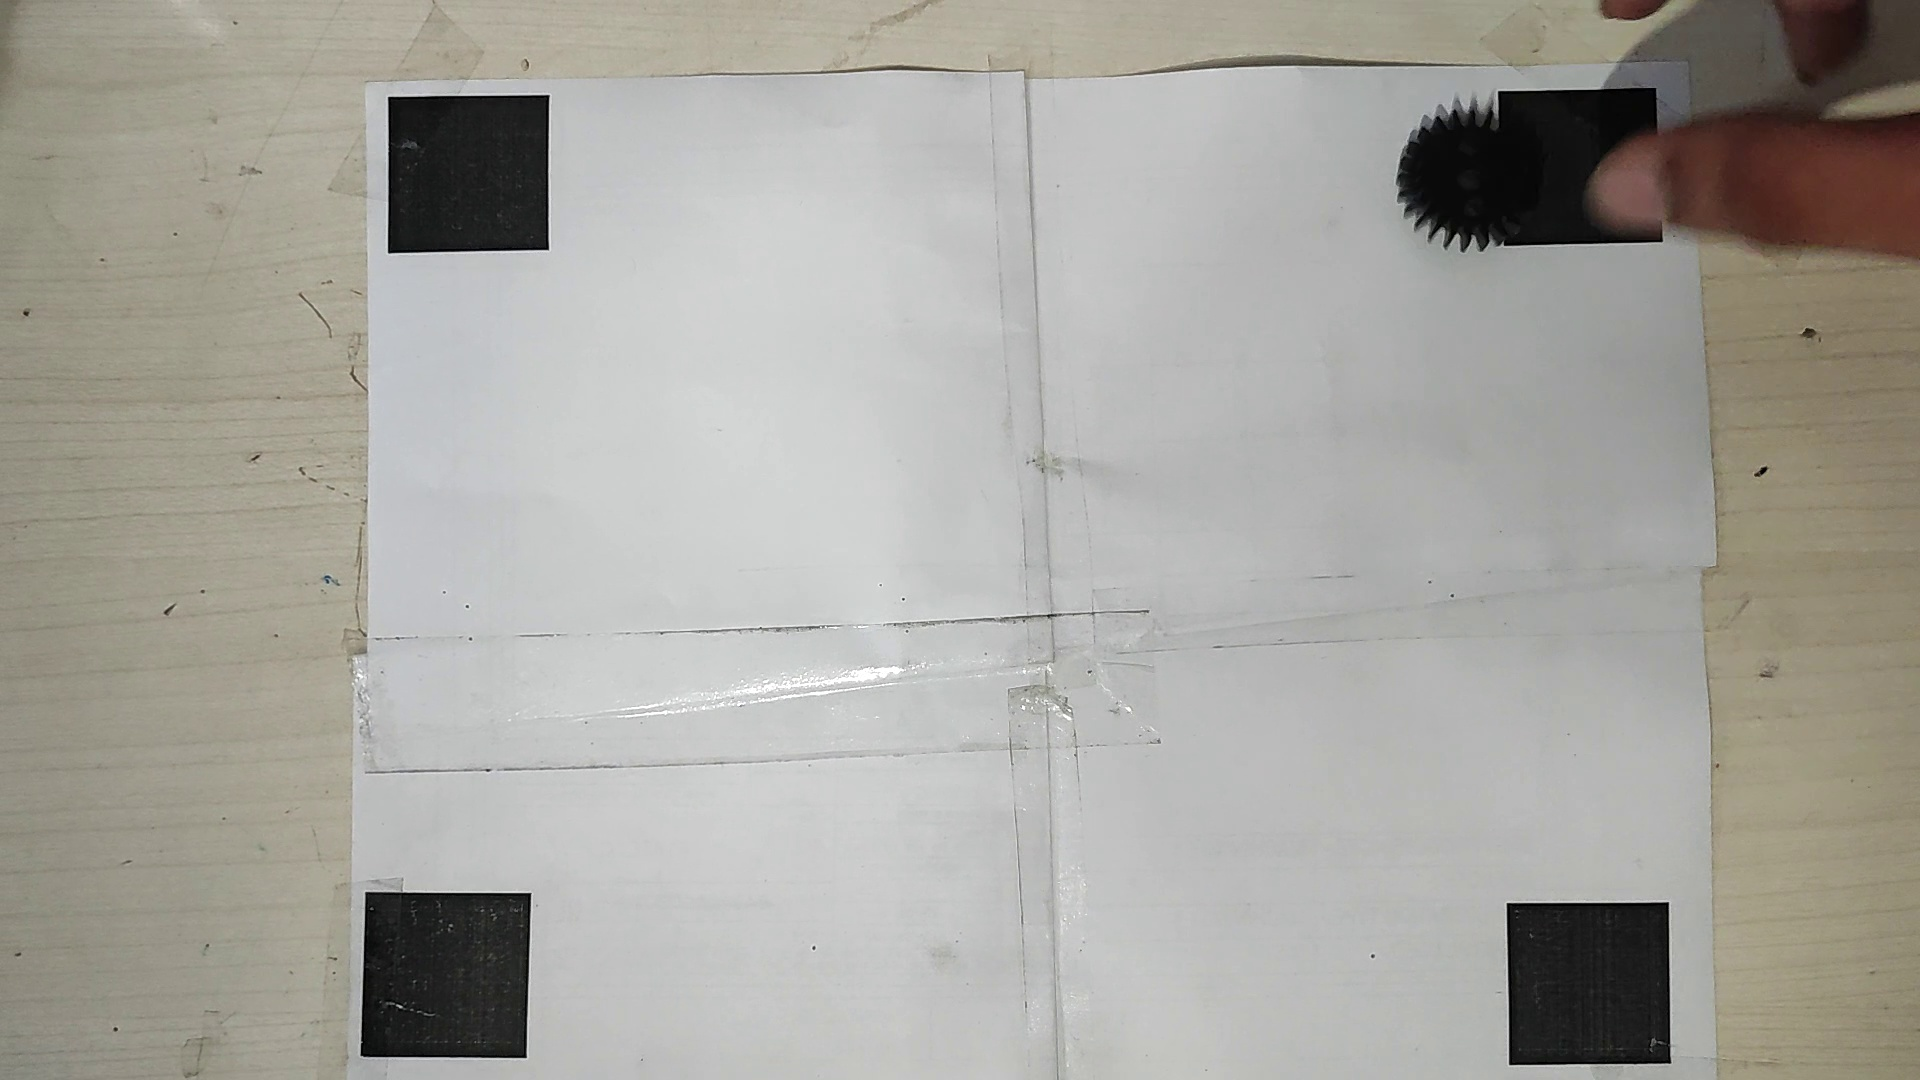Gear: (1390, 112, 1543, 251)
